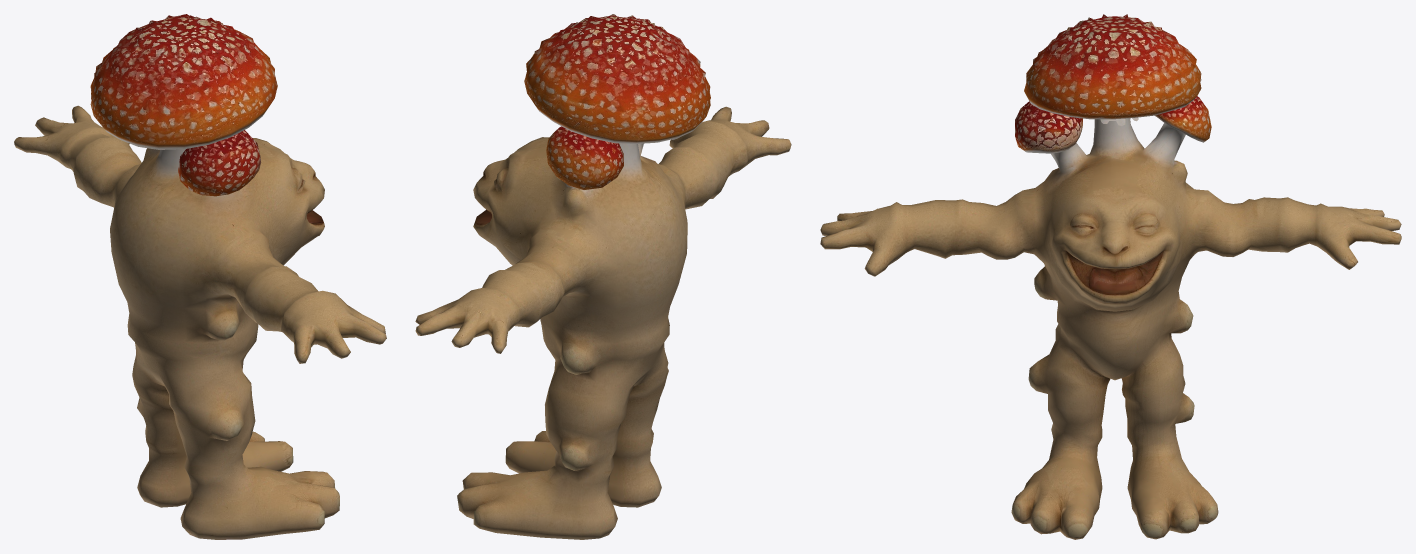
3 renders of one model, left to right at view 1: azimuth 30°, elevation 25°; view 2: azimuth 150°, elevation 25°; view 3: azimuth 270°, elevation 25°, orthographic. The views are drawn at different scales.
Visible parts, largest first — view 1: tripo_node_c8a23fcd-682d-4f05-909e-c4e38d3389d6; view 2: tripo_node_c8a23fcd-682d-4f05-909e-c4e38d3389d6; view 3: tripo_node_c8a23fcd-682d-4f05-909e-c4e38d3389d6.
Part boxes in pixels (x1,y1,x2,y2): tripo_node_c8a23fcd-682d-4f05-909e-c4e38d3389d6: (14,14,386,539); tripo_node_c8a23fcd-682d-4f05-909e-c4e38d3389d6: (415,14,791,539); tripo_node_c8a23fcd-682d-4f05-909e-c4e38d3389d6: (820,14,1401,539).
Size of the model in its own units: 0.4082 by 0.873 by 0.998.
1 material, 1 textured.
